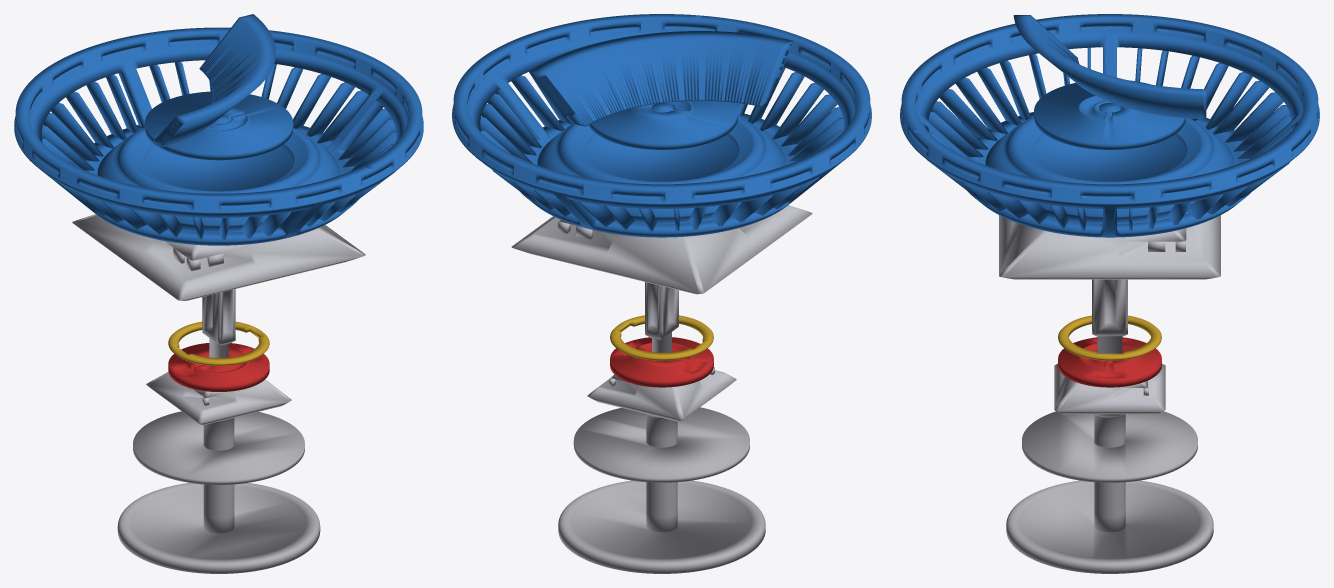
Rendered from gym.obj.
3 views of the same model, side by side, from view 1: azimuth 30°, elevation 25°; view 2: azimuth 150°, elevation 25°; view 3: azimuth 270°, elevation 25° (orthographic). The views are drawn at different scales.
Parts seen in each view (by area): view 1: the_gym; view 2: the_gym; view 3: the_gym.
Boxes of the visible parts, x1,y1,x2,y2 form: the_gym: (14, 14, 423, 573); the_gym: (452, 14, 871, 573); the_gym: (900, 14, 1319, 573).
Bounding box in the file's own units: 0.802 × 1 × 0.802.
